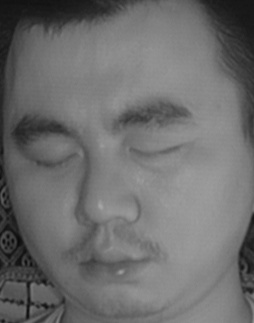blink: (131, 132, 179, 171), (32, 142, 80, 179)
mouth: (69, 233, 161, 287)
